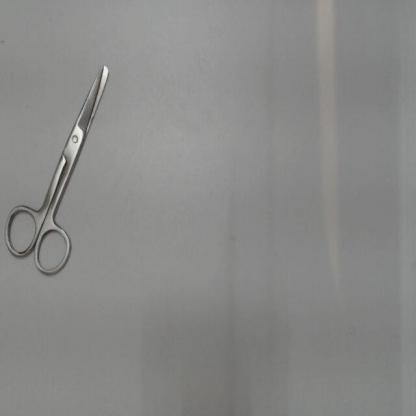Dressing Scissors: (1, 49, 117, 286)
